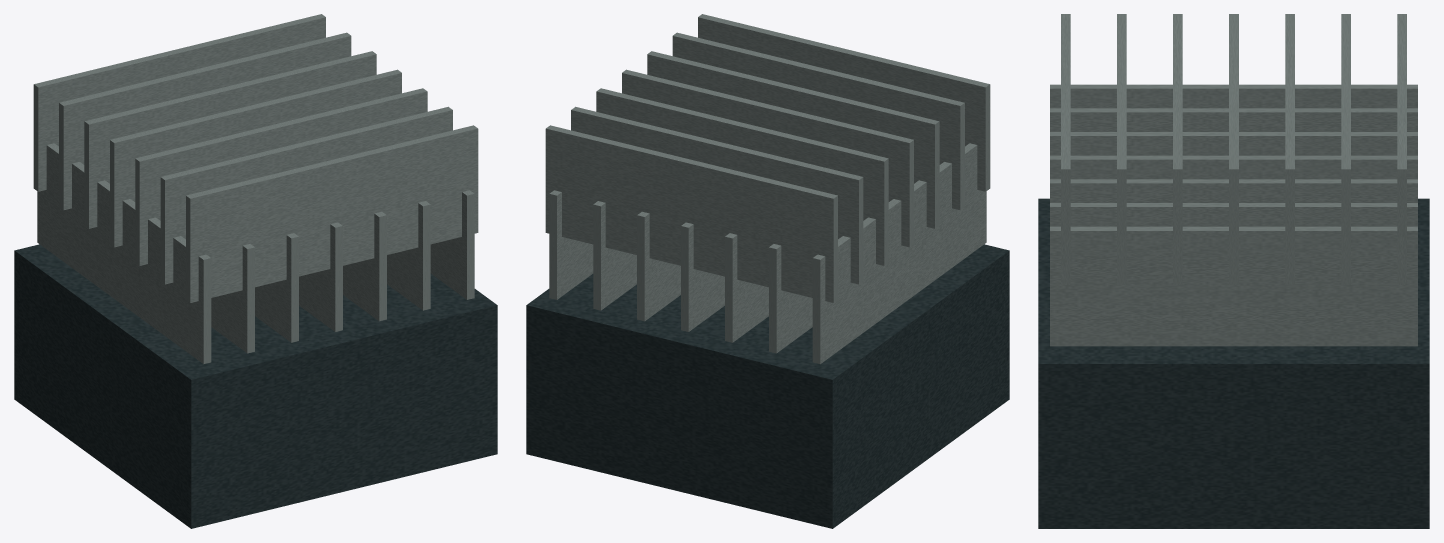
The model's file is conduit_dark_01.fbx.
3 views of the same model, side by side, from view 1: azimuth 30°, elevation 25°; view 2: azimuth 150°, elevation 25°; view 3: azimuth 270°, elevation 25° (orthographic). The views are drawn at different scales.
Visible parts, largest first — view 1: conduit_dark_01_LOD0; view 2: conduit_dark_01_LOD0; view 3: conduit_dark_01_LOD0.
Boxes of the visible parts, x1,y1,x2,y2 form: conduit_dark_01_LOD0: [14, 14, 497, 528]; conduit_dark_01_LOD0: [526, 14, 1009, 528]; conduit_dark_01_LOD0: [1038, 14, 1429, 528].
Size of what is drawn, in the model's own units: 1 by 1 by 1.
